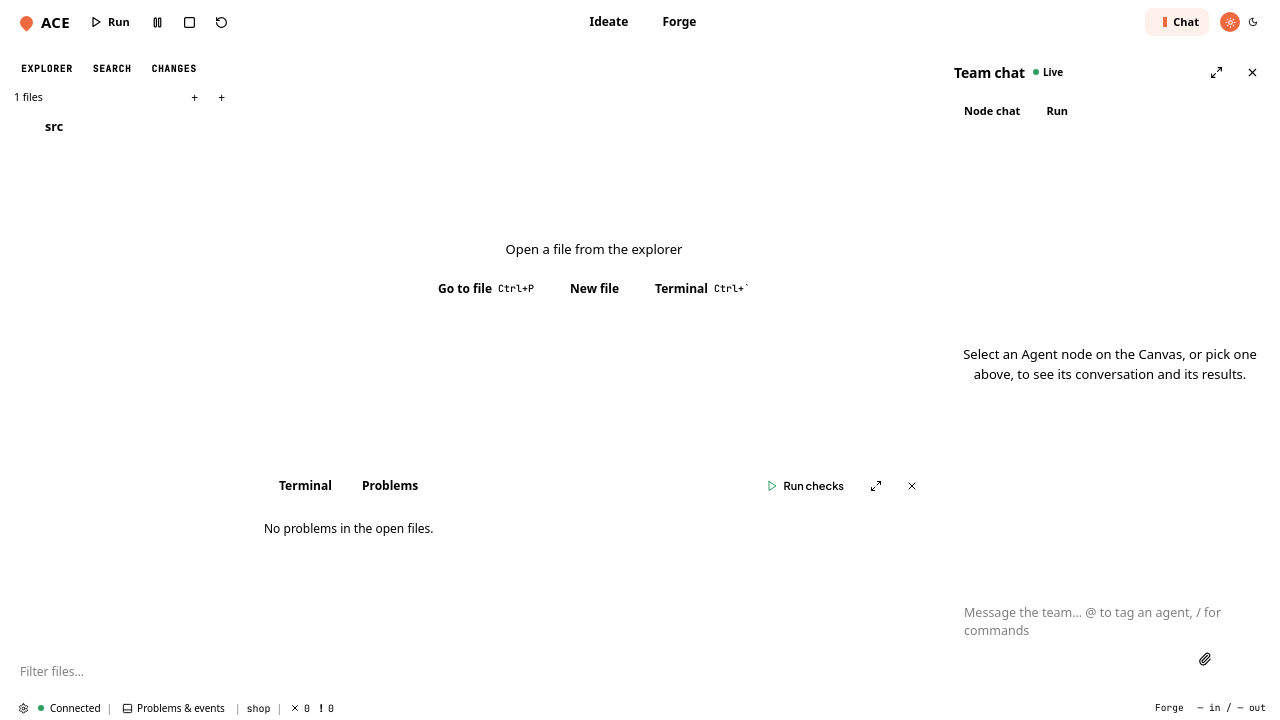
Test: D299 Phase 4 Run checks in the Problems panel › under scripts, a typed command shows the engine’s refusal in the Checks group
The width and height of the screenshot is (1280, 720).
Click the button with test id "run-checks" at [805, 486], box left=756, top=474, right=854, bottom=498
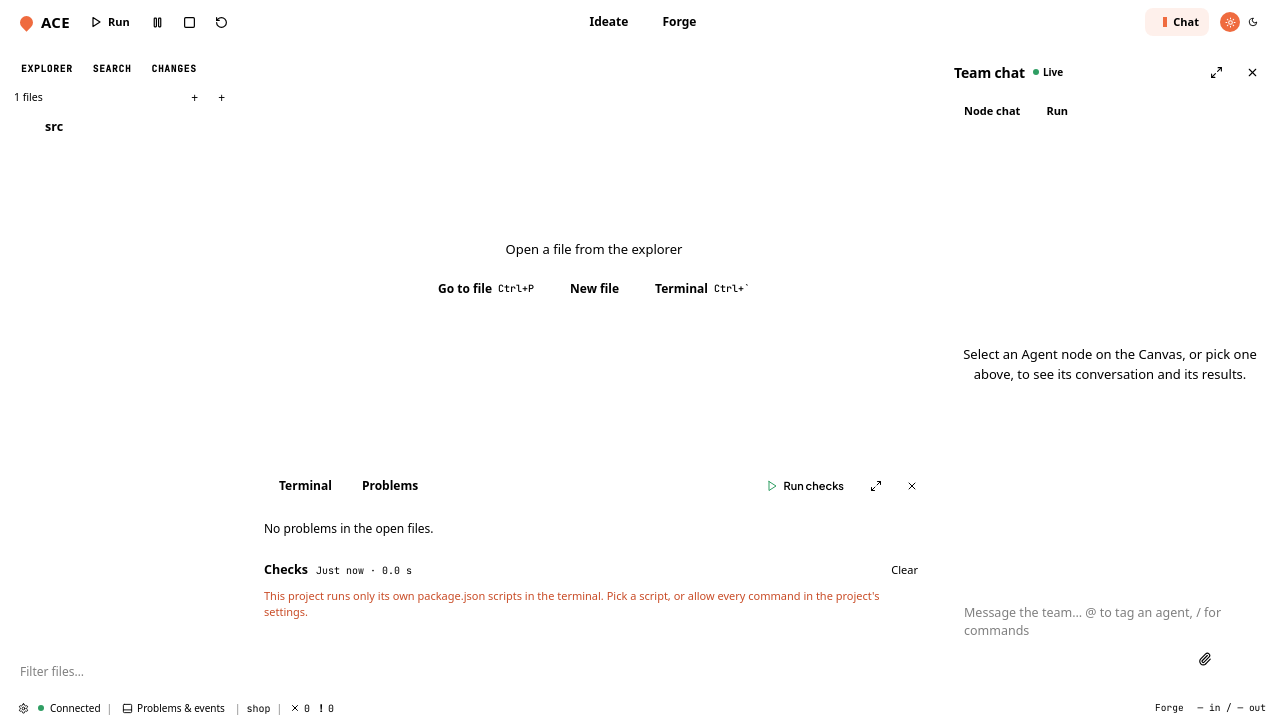
Check: the 1st message shows "only its own package.json scripts", box left=264, top=588, right=879, bottom=619
